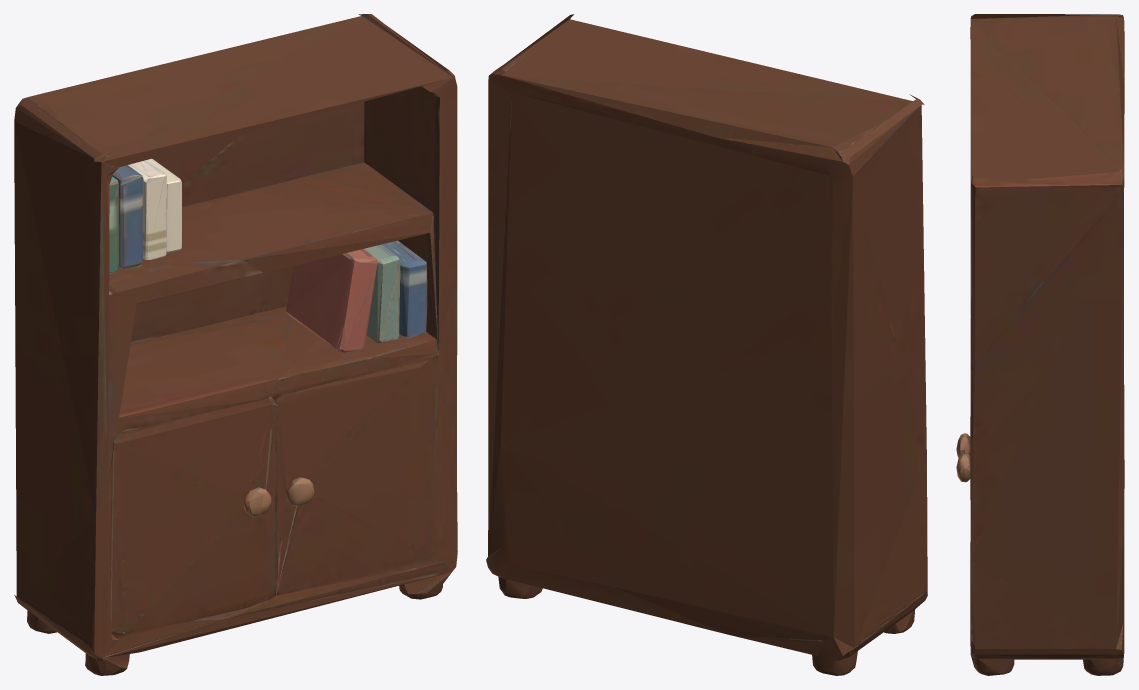
Rendered from storage.glb.
The picture shows the model from 3 angles, left to right: view 1: azimuth 30°, elevation 25°; view 2: azimuth 150°, elevation 25°; view 3: azimuth 270°, elevation 25°; orthographic projection. The views are drawn at different scales.
Visible parts, largest first — view 1: storage-basic-fit; view 2: storage-basic-fit; view 3: storage-basic-fit.
Boxes of the visible parts, box(x1,y1,x2,y2) form: storage-basic-fit: box(14, 14, 457, 675); storage-basic-fit: box(486, 14, 927, 675); storage-basic-fit: box(956, 14, 1124, 675).
Size of the model in its own units: 1.82 by 2.5 by 0.756.
1 material, 1 textured.
